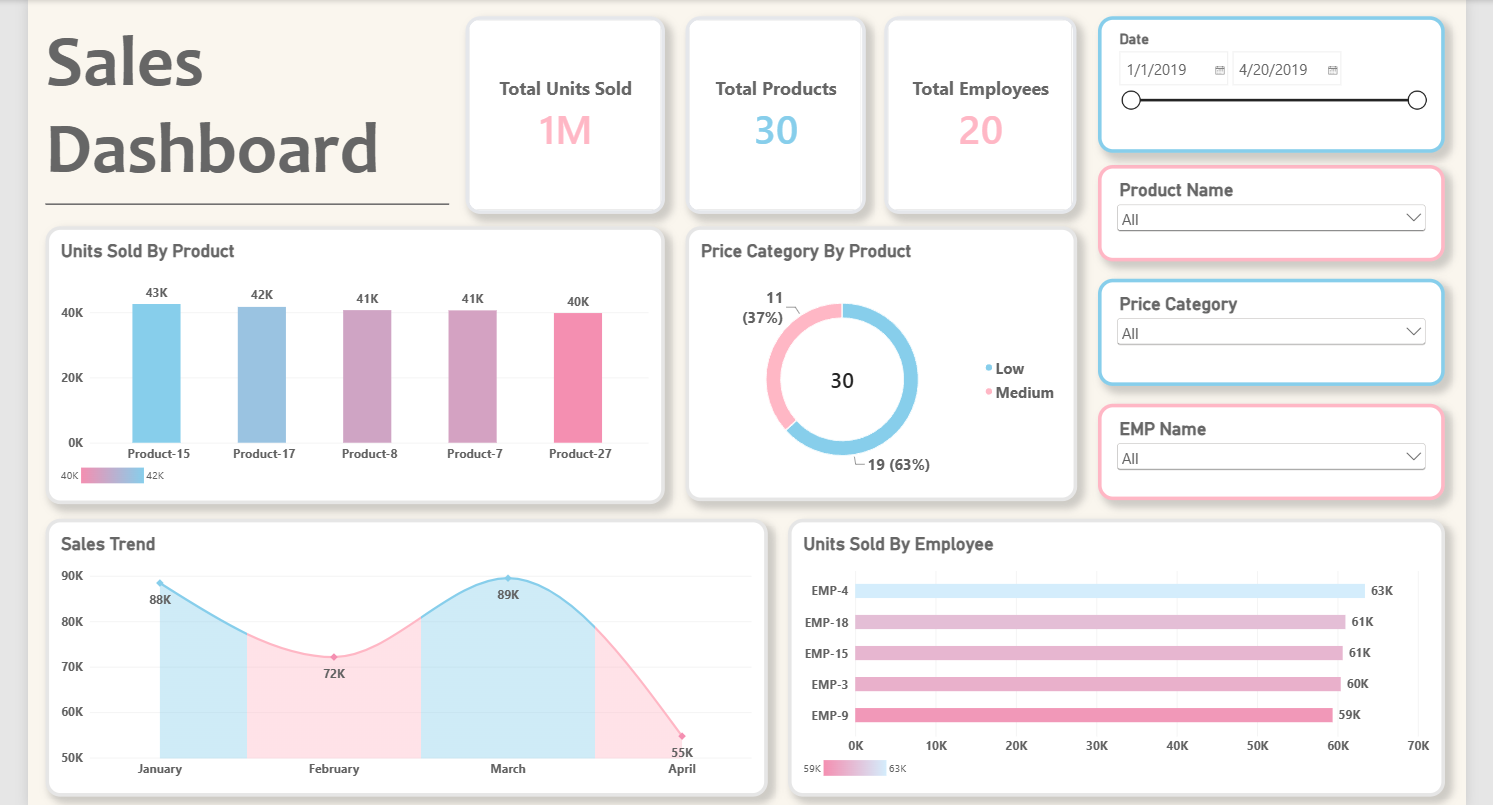

The page's visual inventory and layout, read from the dashboard file:
{"tool":"powerbi","page":{"name":"Page 2","canvas":[1920,1080],"ordinal":0},"visuals":[{"type":"cardVisual","title":"Total Units Sold","fields":{"Data":["Sum(Sales.Units Sold)"]},"box":[584.5,21.7,266,264.2],"z":0},{"type":"textbox","box":[23.5,21.7,539.3,285.9],"z":1000},{"type":"shape","box":[23.5,244.3,539.3,57.9],"z":2000},{"type":"cardVisual","title":"Total Units Sold","fields":{"Data":["CountNonNull(Product Master.Product ID)"]},"box":[877.7,21.7,240.7,264.2],"z":3000},{"type":"cardVisual","title":"Total Units Sold","fields":{"Data":["CountNonNull(Emp Master.EMP ID)"]},"box":[1143.7,21.7,257,264.2],"z":4000},{"type":"clusteredColumnChart","title":"Units Sold By Product","fields":{"Category":["Product Master.Product Name"],"Y":["Sum(Sales.Units Sold)"]},"box":[23.5,302.2,827,371],"z":5000},{"type":"barChart","title":"Units Sold By Employee","fields":{"Y":["Sum(Sales.Units Sold)"],"Category":["Emp Master.EMP Name"]},"box":[1015.2,693.1,877.7,371],"z":6000},{"type":"lineChart","title":"Sales Trend","fields":{"Y":["Sum(Sales.Units Sold)"],"Category":["Sales.Date.Variation.Date Hierarchy.Month"]},"box":[23.5,693.1,964.5,371],"z":7000},{"type":"donutChart","title":"Price Category By Product","fields":{"Category":["Product Master.Price Category"],"Y":["CountNonNull(Product Master.Product ID)"]},"box":[877.7,302.2,523,367.4],"z":8000},{"type":"slicer","fields":{"Values":["Product Master.Product Name"]},"box":[1429.6,220.8,463.3,128.5],"z":9000},{"type":"slicer","fields":{"Values":["Emp Master.EMP Name"]},"box":[1429.6,539.3,463.3,128.5],"z":10000},{"type":"slicer","fields":{"Values":["Product Master.Price Category"]},"box":[1429.6,372.8,463.3,143],"z":11000},{"type":"slicer","fields":{"Values":["Sales.Date"]},"box":[1429.6,21.7,463.3,182.8],"z":12000}]}

Visuals, with their boxes in screenshot pixels (x1, y1, x2, y2):
"Total Units Sold" cardVisual: select_region(449, 0, 652, 198)
textbox: select_region(22, 0, 433, 215)
shape: select_region(22, 167, 433, 211)
"Total Units Sold" cardVisual: select_region(673, 0, 856, 198)
"Total Units Sold" cardVisual: select_region(875, 0, 1071, 198)
"Units Sold By Product" clusteredColumnChart: select_region(22, 211, 652, 493)
"Units Sold By Employee" barChart: select_region(777, 509, 1446, 791)
"Sales Trend" lineChart: select_region(22, 509, 757, 791)
"Price Category By Product" donutChart: select_region(673, 211, 1071, 491)
slicer - Product Master.Product Name: select_region(1093, 149, 1446, 247)
slicer - Emp Master.EMP Name: select_region(1093, 391, 1446, 489)
slicer - Product Master.Price Category: select_region(1093, 265, 1446, 374)
slicer - Sales.Date: select_region(1093, 0, 1446, 136)
